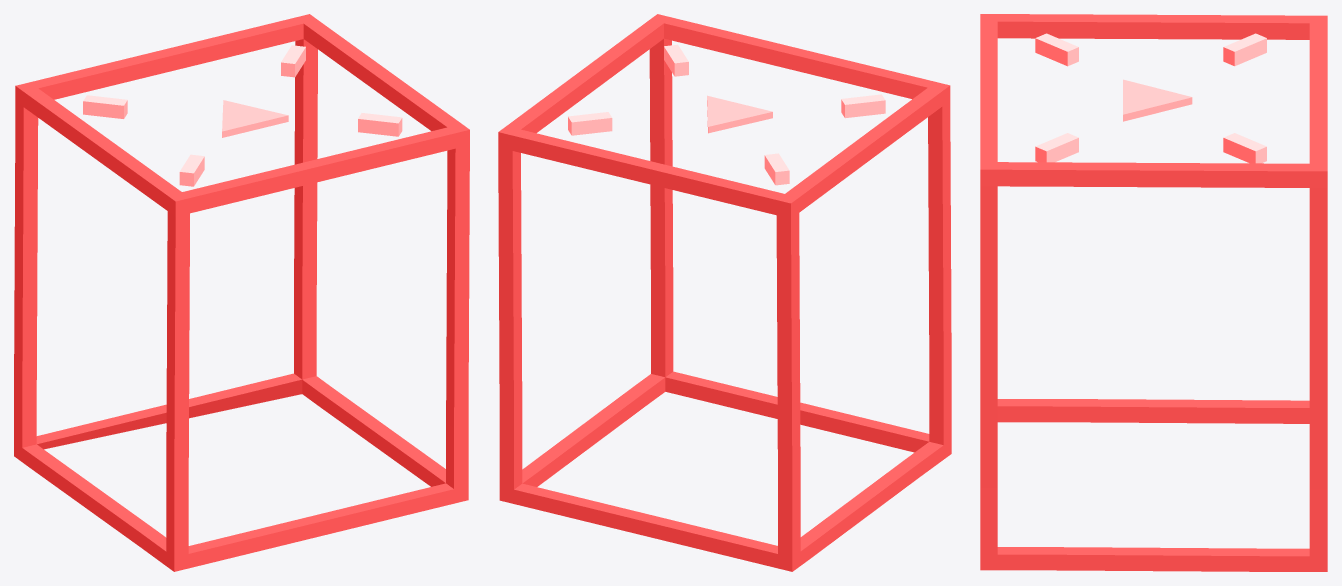
The picture shows the model from 3 angles, left to right: view 1: azimuth 30°, elevation 25°; view 2: azimuth 150°, elevation 25°; view 3: azimuth 270°, elevation 25°; orthographic projection. The views are drawn at different scales.
Visible parts, largest first — view 1: 立方体.025, 立方体.024, 立方体.028, 立方体.027; view 2: 立方体.025, 立方体.024, 立方体.028, 立方体.027; view 3: 立方体.025, 立方体.024, 立方体.027, 立方体.028.
Boxes of the visible parts, bbox=[...] form: 立方体.025: bbox=[14, 14, 469, 571]; 立方体.024: bbox=[83, 95, 204, 186]; 立方体.028: bbox=[222, 100, 288, 137]; 立方体.027: bbox=[281, 45, 402, 136]; 立方体.025: bbox=[498, 14, 951, 571]; 立方体.024: bbox=[764, 94, 885, 185]; 立方体.028: bbox=[707, 95, 772, 133]; 立方体.027: bbox=[568, 44, 688, 135]; 立方体.025: bbox=[980, 14, 1327, 571]; 立方体.024: bbox=[1035, 33, 1266, 66]; 立方体.027: bbox=[1035, 133, 1266, 163]; 立方体.028: bbox=[1123, 79, 1192, 121].
Bounding box in the file's own units: 188 × 200 × 241.
